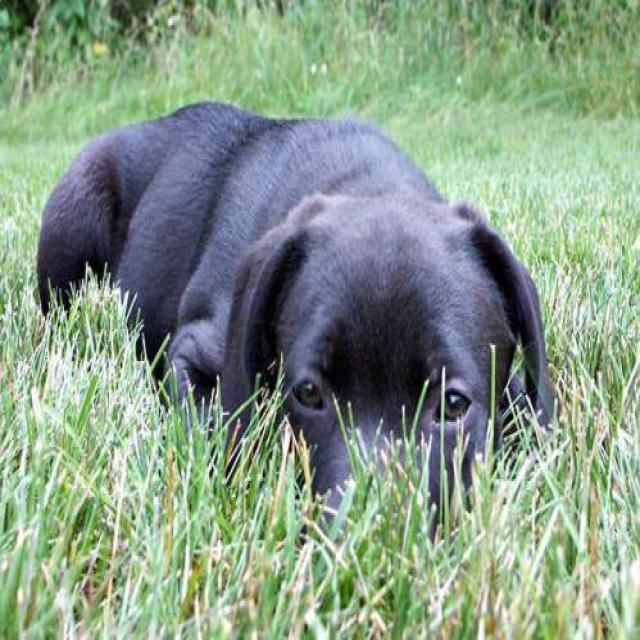dog: (35, 98, 558, 547)
